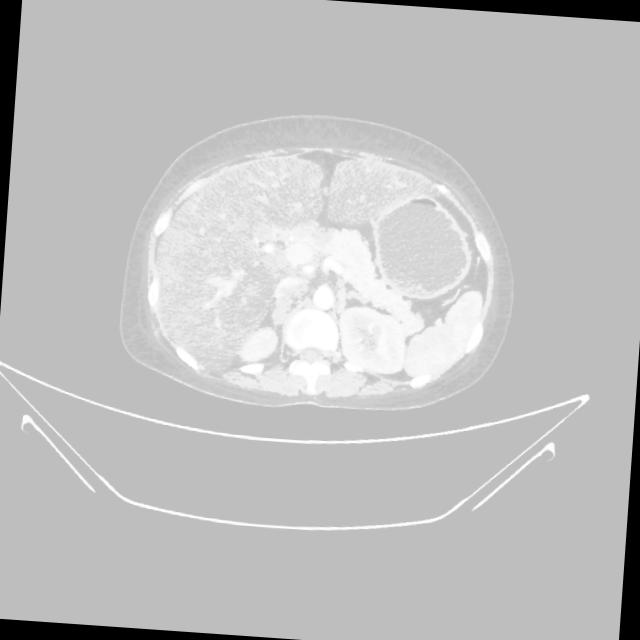NORMAL: (88, 108, 529, 421)
